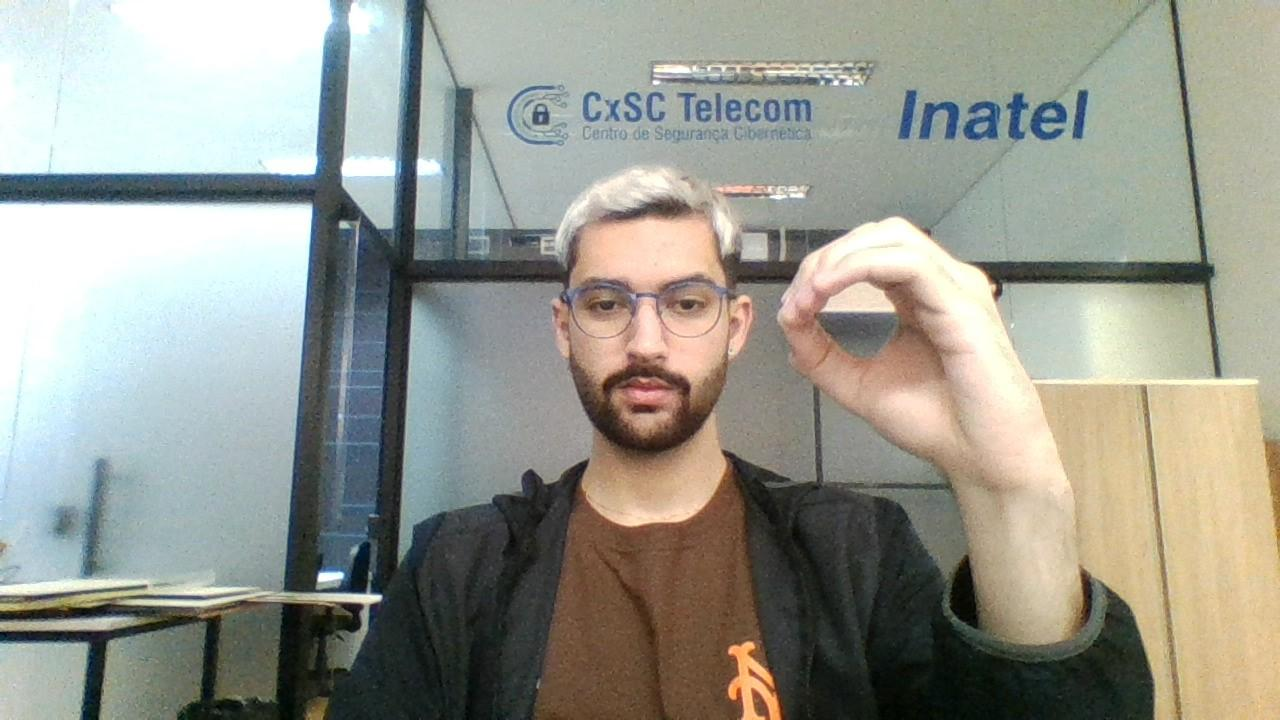O: (776, 214, 1030, 476)
